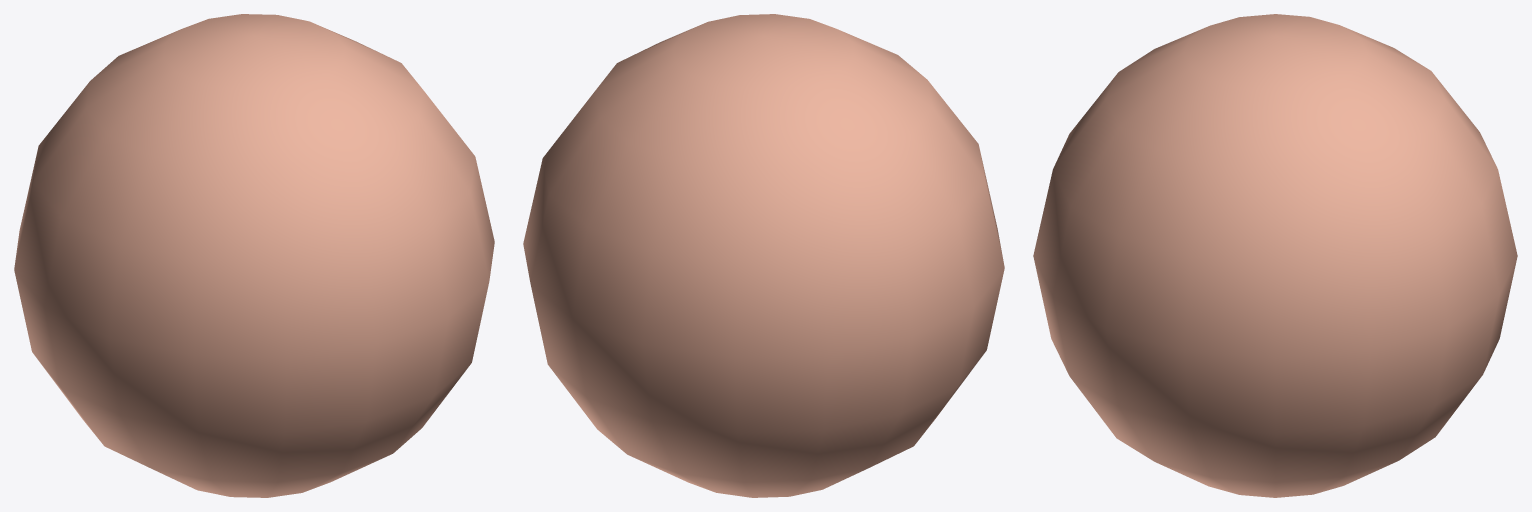
File: MenstrationNODE.gltf
3 renders of one model, left to right at view 1: azimuth 30°, elevation 25°; view 2: azimuth 150°, elevation 25°; view 3: azimuth 270°, elevation 25°, orthographic.
Visible parts, largest first — view 1: MenstrationNODE; view 2: MenstrationNODE; view 3: MenstrationNODE.
Boxes of the visible parts, x1,y1,x2,y2 form: MenstrationNODE: (14, 14, 494, 497); MenstrationNODE: (523, 14, 1004, 497); MenstrationNODE: (1033, 14, 1517, 497).
Bounding box in the file's own units: 0.5144 × 0.5144 × 0.5144.
